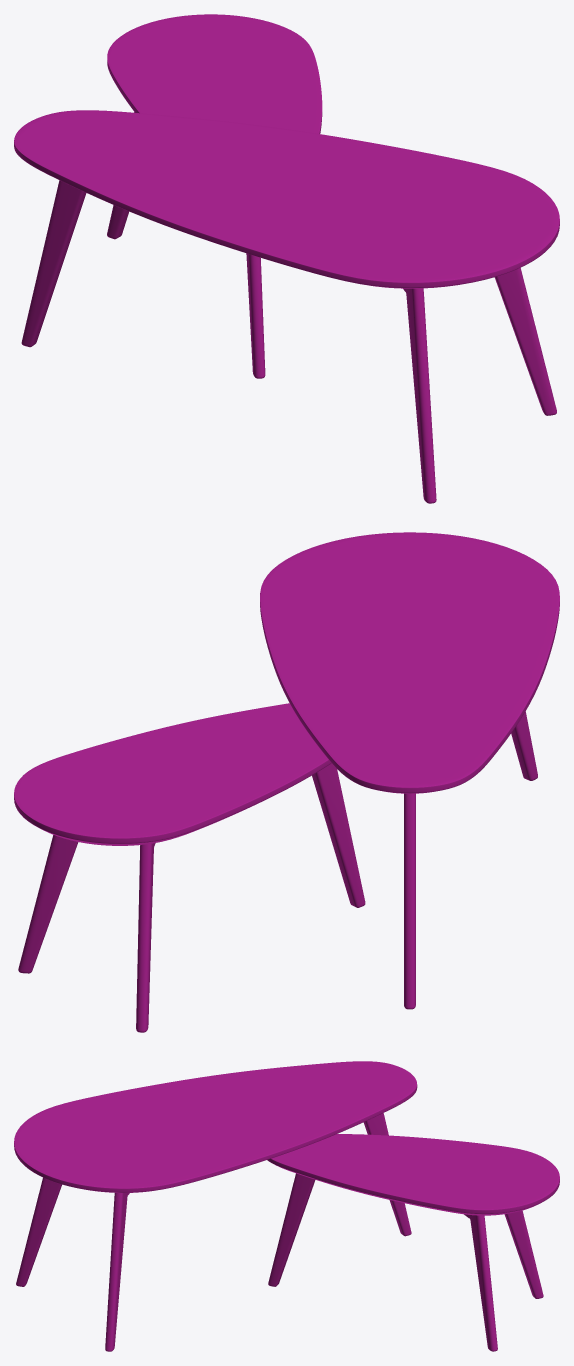
File: stol2.obj
The picture shows the model from 3 angles, top to bottom: view 1: azimuth 30°, elevation 25°; view 2: azimuth 150°, elevation 25°; view 3: azimuth 270°, elevation 25°; orthographic projection. The views are drawn at different scales.
Parts seen in each view (by area): view 1: Cylinder001, Cylinder002, Line001, Line002, Line003, Line004; view 2: Cylinder001, Cylinder002, Line004, Line005, Line006, Line001, Line002; view 3: Cylinder001, Cylinder002, Line003, Line004, Line005, Line002, Line006, Line001.
Part boxes in pixels (x1,y1,x2,y2): Cylinder001: [14, 110, 559, 288]; Cylinder002: [107, 14, 322, 133]; Line001: [21, 180, 86, 347]; Line002: [403, 288, 436, 503]; Line003: [494, 268, 556, 415]; Line004: [246, 253, 265, 378]; Cylinder001: [260, 532, 559, 793]; Cylinder002: [14, 703, 331, 845]; Line004: [312, 763, 365, 907]; Line005: [18, 835, 78, 973]; Line006: [136, 843, 155, 1032]; Line001: [404, 793, 415, 1009]; Line002: [511, 711, 537, 780]; Cylinder001: [14, 1061, 417, 1192]; Cylinder002: [267, 1134, 559, 1215]; Line003: [105, 1193, 129, 1351]; Line004: [268, 1173, 315, 1286]; Line005: [464, 1214, 497, 1351]; Line002: [16, 1177, 61, 1286]; Line006: [504, 1210, 543, 1298]; Line001: [363, 1113, 411, 1236].
Bounding box in the file's own units: 694 × 402 × 1235.
